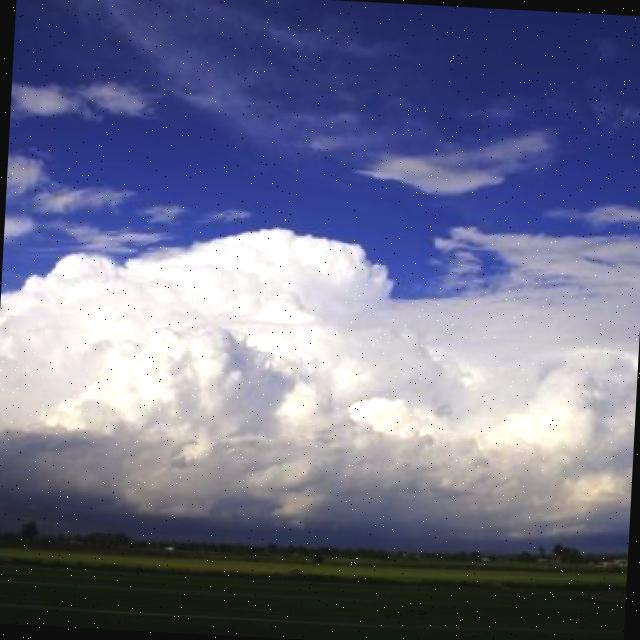Cb: (1, 162, 640, 535)
